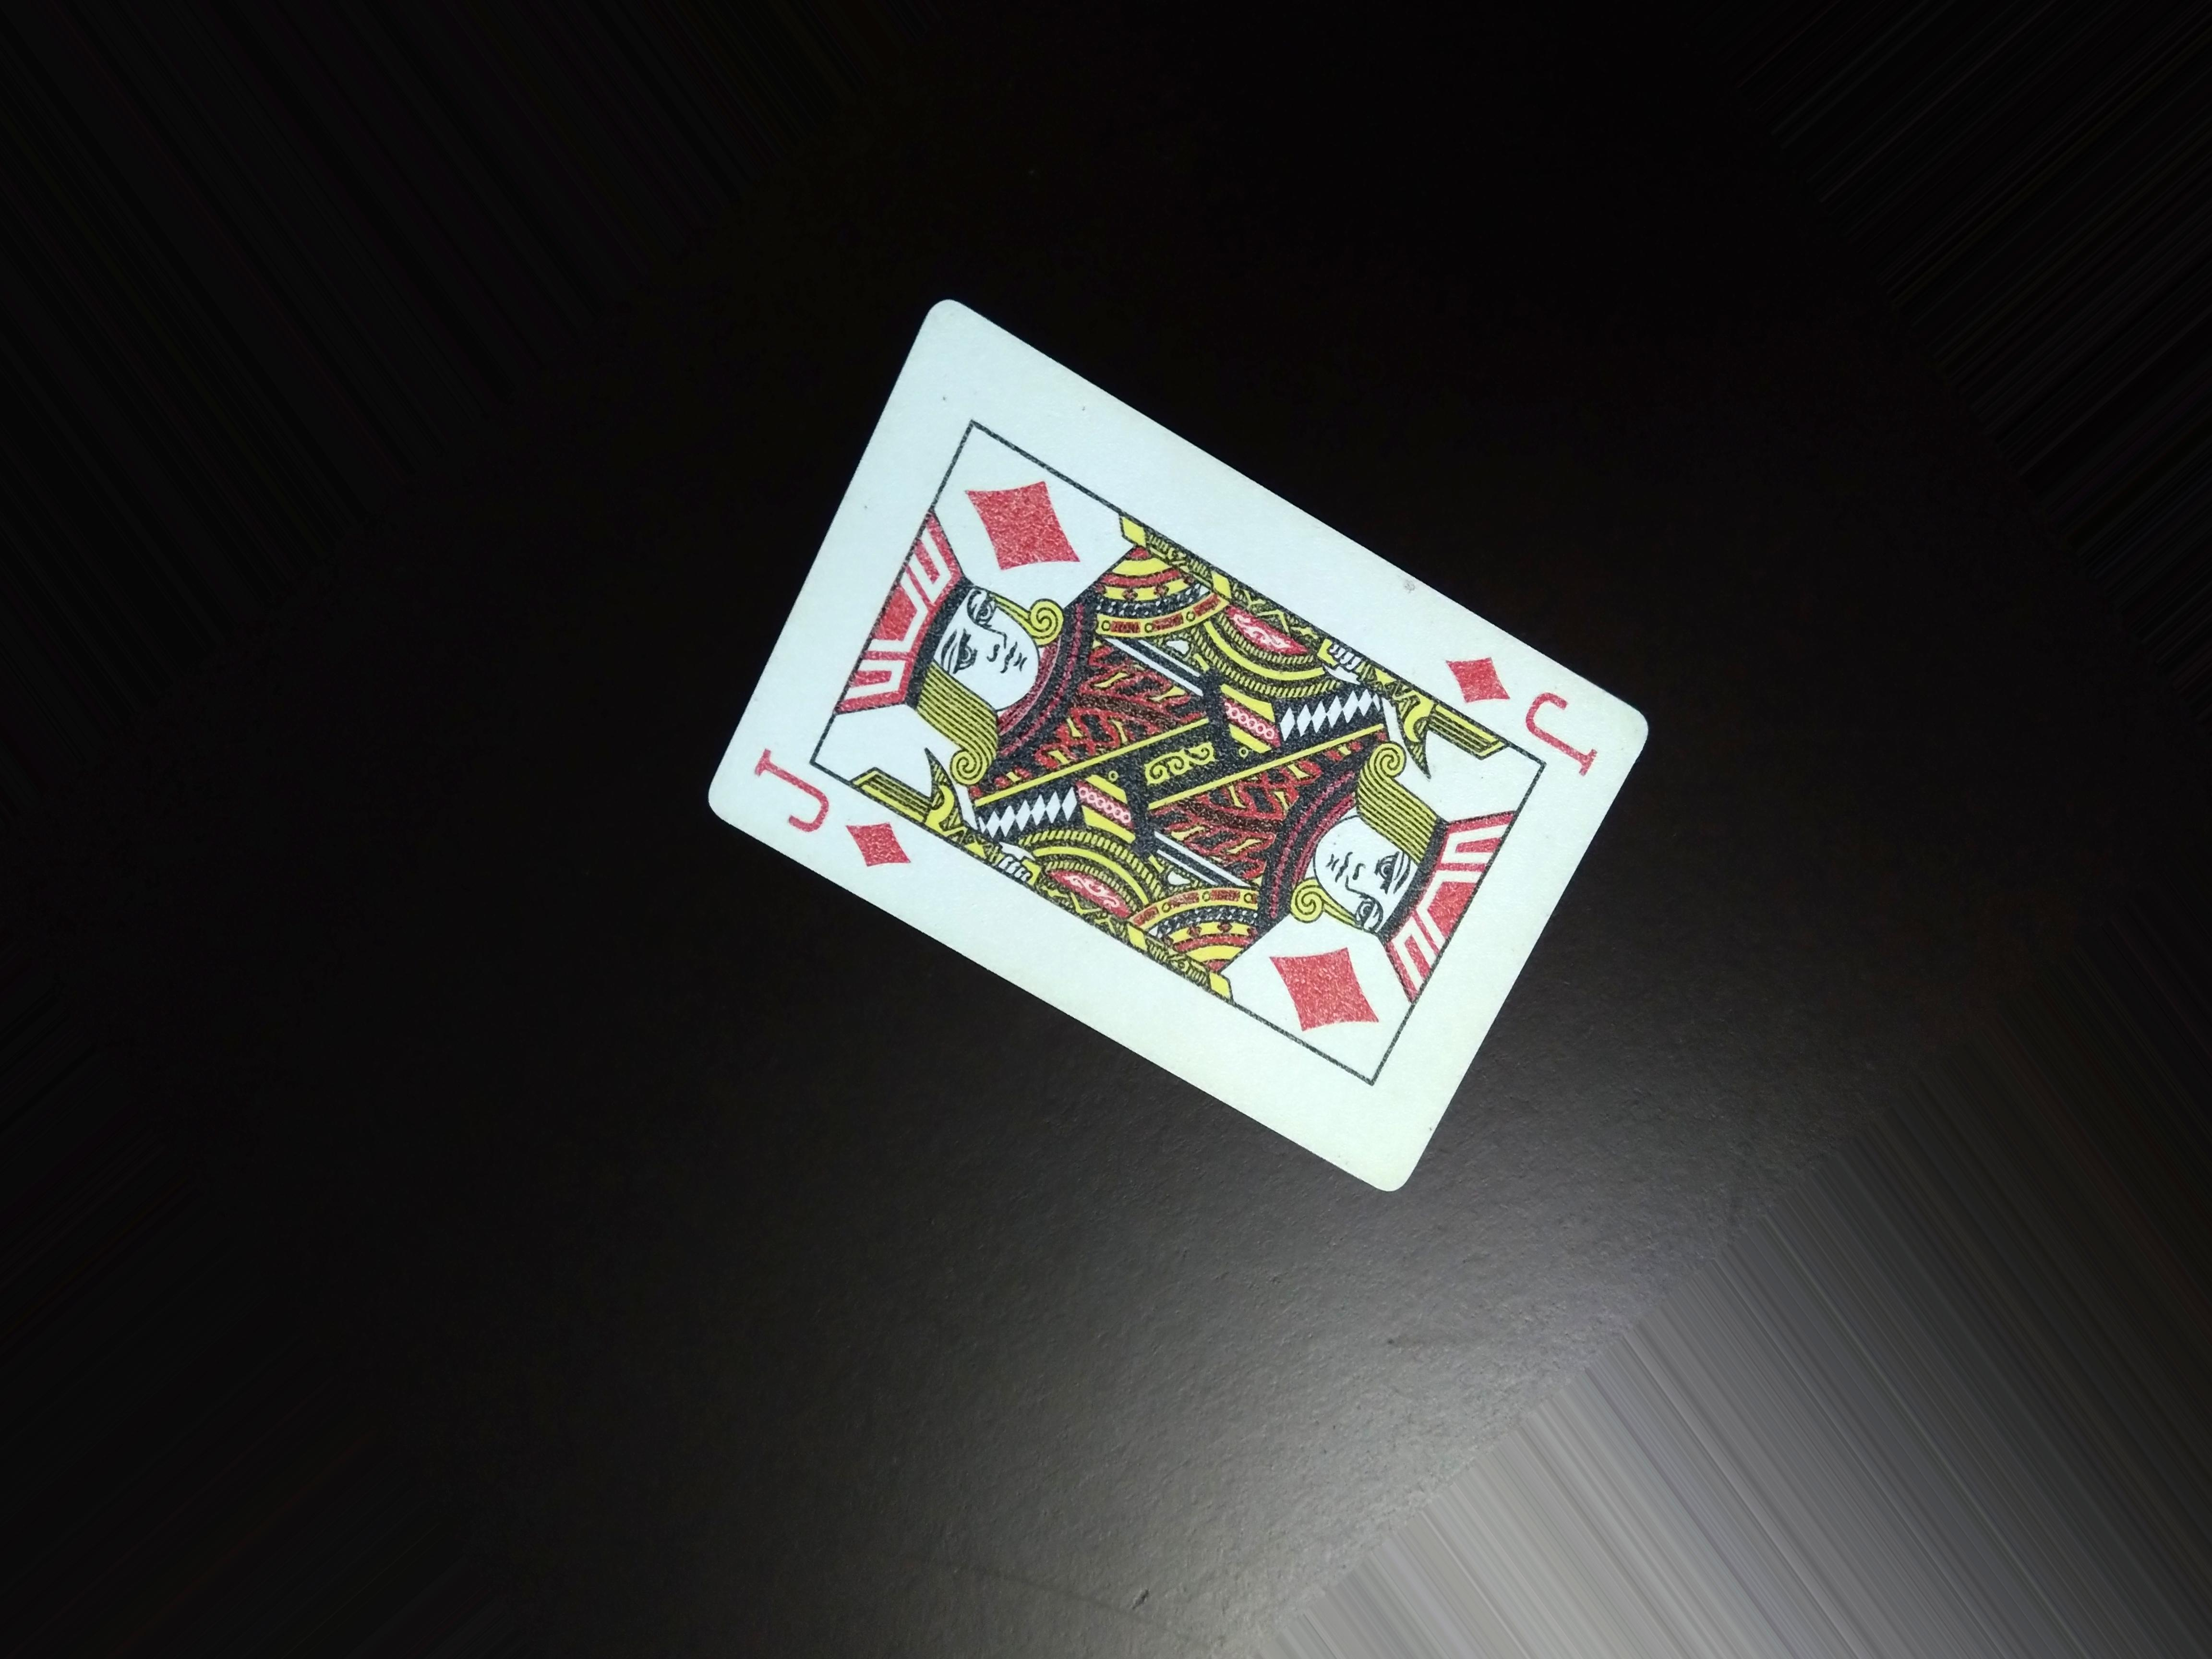JD: (1439, 652, 1615, 777)
